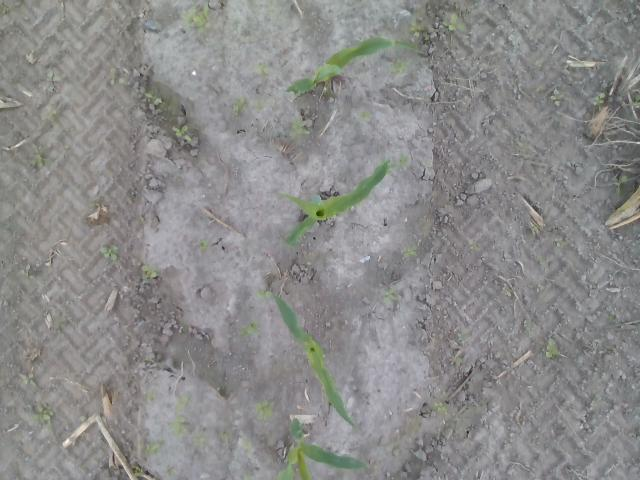Maize: (254, 290, 360, 434), (282, 160, 389, 248), (286, 36, 428, 99), (276, 416, 366, 479)
Weeds: (193, 428, 255, 450), (169, 391, 190, 437), (183, 0, 207, 33), (535, 84, 563, 108), (254, 400, 278, 422), (442, 12, 464, 34), (15, 368, 40, 386), (98, 241, 119, 262), (32, 402, 54, 422), (289, 118, 308, 138), (410, 18, 427, 40), (392, 153, 409, 174), (392, 60, 419, 73), (110, 68, 128, 87), (140, 263, 160, 280), (544, 338, 558, 360), (171, 125, 191, 140), (239, 321, 258, 336), (614, 172, 628, 192), (30, 152, 46, 169), (253, 61, 273, 74), (590, 92, 606, 108), (144, 440, 162, 454), (231, 97, 243, 117), (0, 2, 16, 16), (16, 263, 30, 278), (145, 92, 160, 106), (230, 14, 241, 33), (450, 355, 466, 368), (254, 290, 274, 300), (164, 464, 178, 478), (133, 466, 149, 478), (524, 318, 534, 336), (384, 289, 396, 304), (468, 239, 482, 251), (432, 401, 448, 411), (144, 388, 156, 401), (55, 318, 64, 335), (552, 236, 564, 248), (530, 224, 542, 236), (46, 106, 56, 120), (198, 237, 208, 250), (358, 110, 370, 120), (63, 144, 71, 159), (406, 246, 416, 258), (608, 311, 618, 322), (631, 94, 640, 106), (48, 70, 58, 80), (457, 332, 465, 342), (88, 200, 96, 210)
